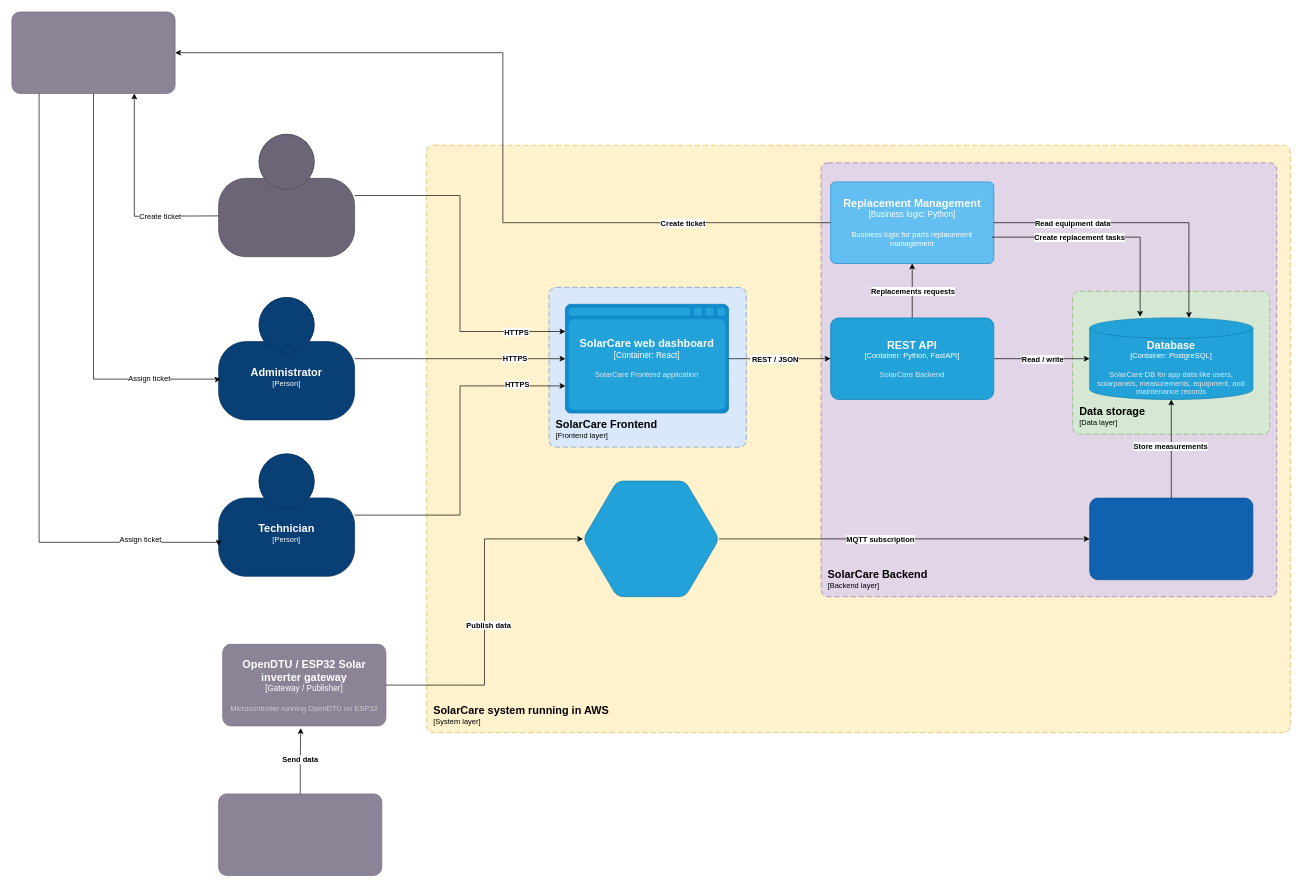
Image size: 1302x887. Some labels were removed from this diagram. Each missing label, with the centre of its shape:
MQTT Mosquito Broker [Broker: Mosquito]: [650,538]
MQTT subscriber [Subscriber] Data ingestion: [1171,538]
Solar panel [Hardware] Costumers Solar panel: [300,834]
Solar Panel owner [Person]: [286,195]
Ticketing system [App] Ticketing system for incident and problem management.: [93,52]
